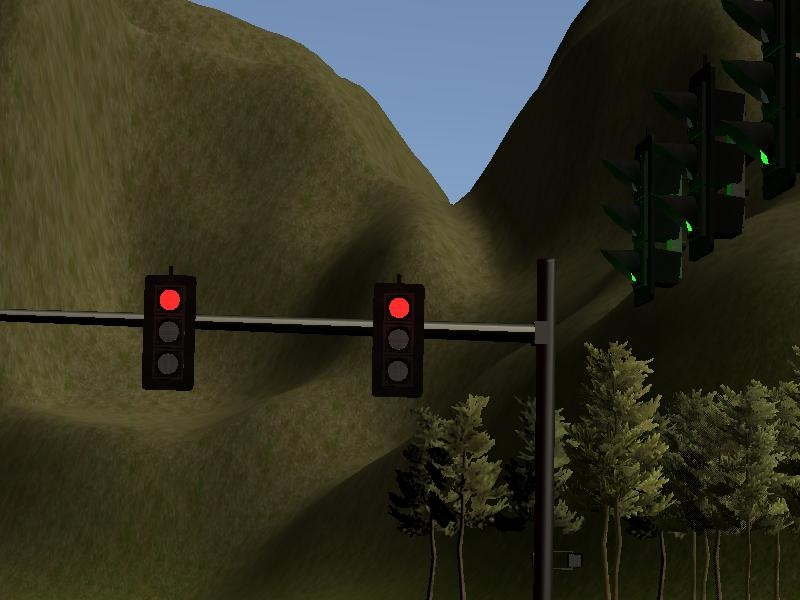RED: (371, 281, 423, 400), (144, 271, 196, 390)
